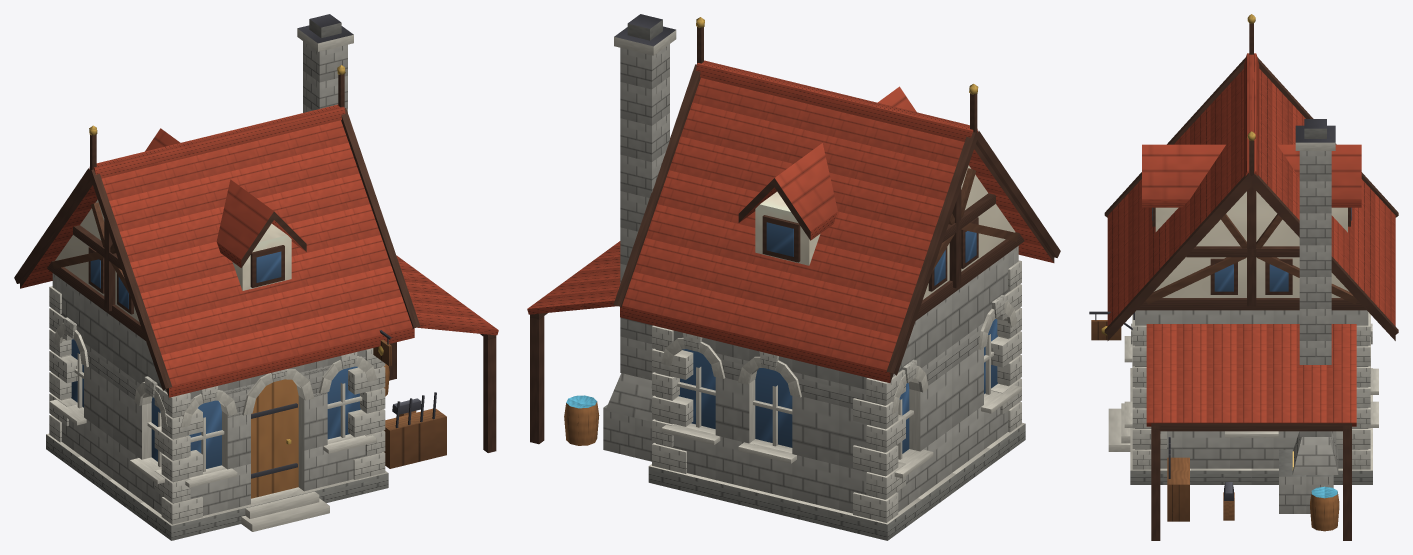
Rendered from biz_blacksmith_01.glb.
3 renders of one model, left to right at view 1: azimuth 30°, elevation 25°; view 2: azimuth 150°, elevation 25°; view 3: azimuth 270°, elevation 25°, orthographic. The views are drawn at different scales.
Visible parts, largest first — view 1: biz_blacksmith_01; view 2: biz_blacksmith_01; view 3: biz_blacksmith_01.
Part boxes in pixels (x1,y1,x2,y2): biz_blacksmith_01: (14, 14, 498, 540); biz_blacksmith_01: (527, 14, 1060, 540); biz_blacksmith_01: (1089, 14, 1398, 540).
Bounding box in the file's own units: 8.7 × 9.11 × 6.78.
Materials: 1 (1 with a texture image).
